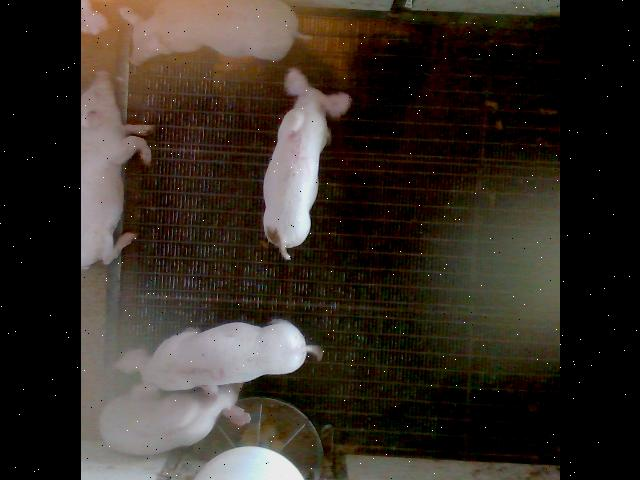pig-3: (114, 320, 321, 398)
pig-4: (119, 0, 309, 65)
pig-5: (263, 69, 350, 260)
